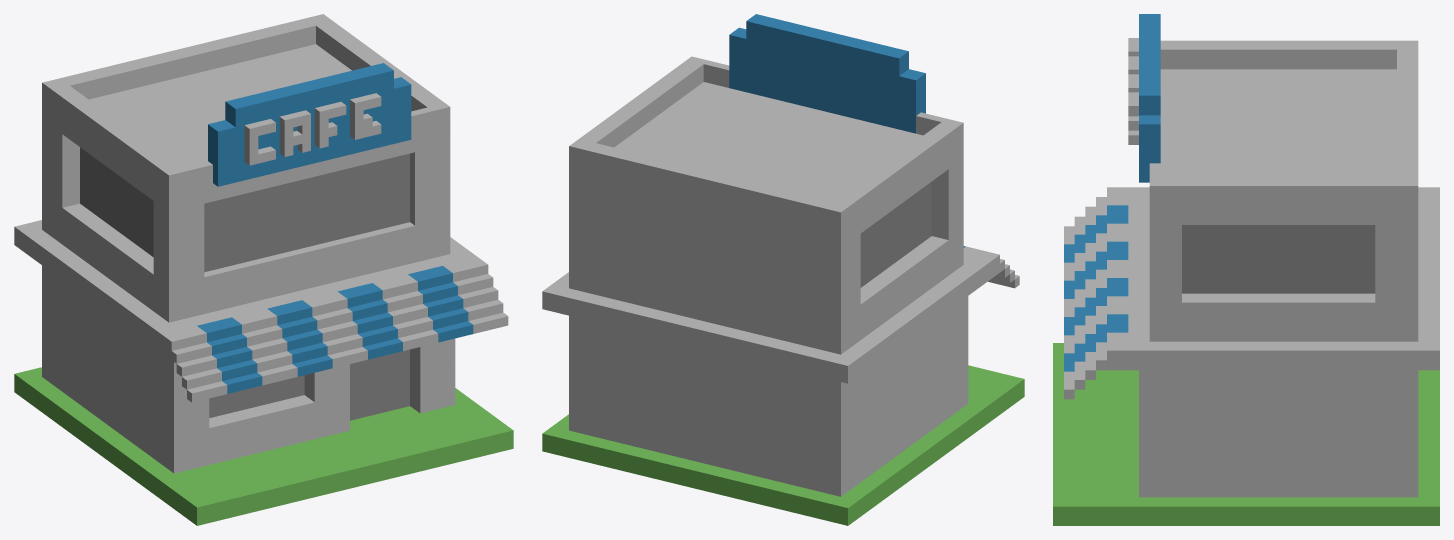
The picture shows the model from 3 angles, left to right: view 1: azimuth 30°, elevation 25°; view 2: azimuth 150°, elevation 25°; view 3: azimuth 270°, elevation 25°; orthographic projection. The views are drawn at different scales.
Visible parts, largest first — view 1: 9; view 2: 9; view 3: 9.
Boxes of the visible parts, <box> form: 9: <box>14,14,513,525</box>; 9: <box>542,14,1024,525</box>; 9: <box>1053,14,1439,525</box>.
Size of the model in its own units: 450 by 500 by 450.
